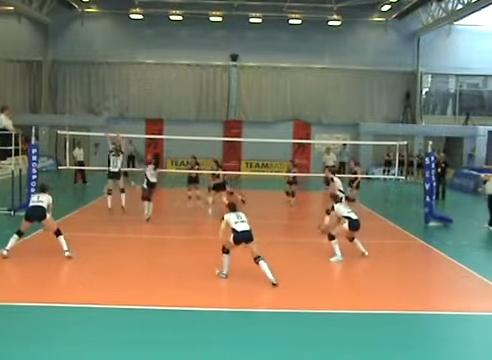muro: (99, 126, 132, 214), (135, 145, 160, 224)
